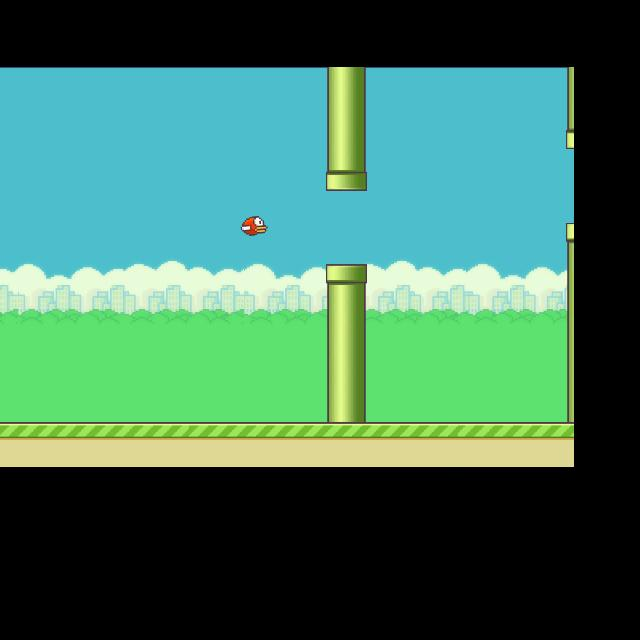bird: (240, 216, 265, 234)
pipedown: (326, 262, 364, 422), (565, 223, 574, 411)
pipeup: (327, 73, 367, 189), (566, 68, 574, 148)
